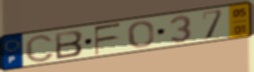3: (168, 13, 193, 44)
7: (202, 8, 224, 40)
B: (53, 29, 85, 61)
C: (24, 33, 56, 63)
F: (93, 21, 123, 56)
O: (127, 20, 156, 49)
